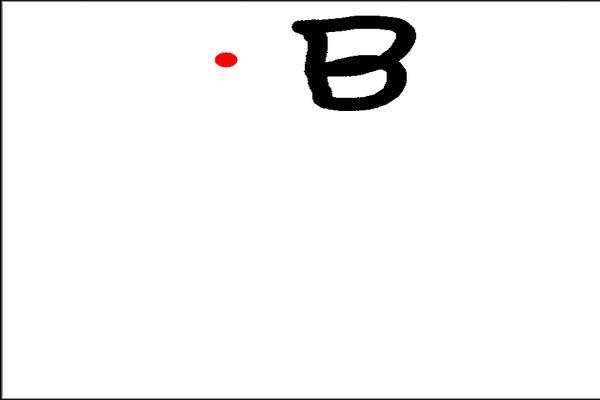B: (284, 8, 430, 122)
